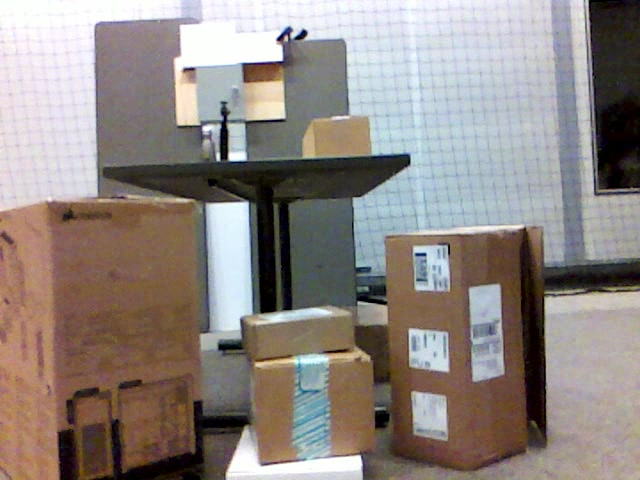box: (1, 196, 205, 480), (385, 225, 549, 473), (248, 348, 377, 464), (245, 304, 354, 357), (300, 116, 371, 155)
